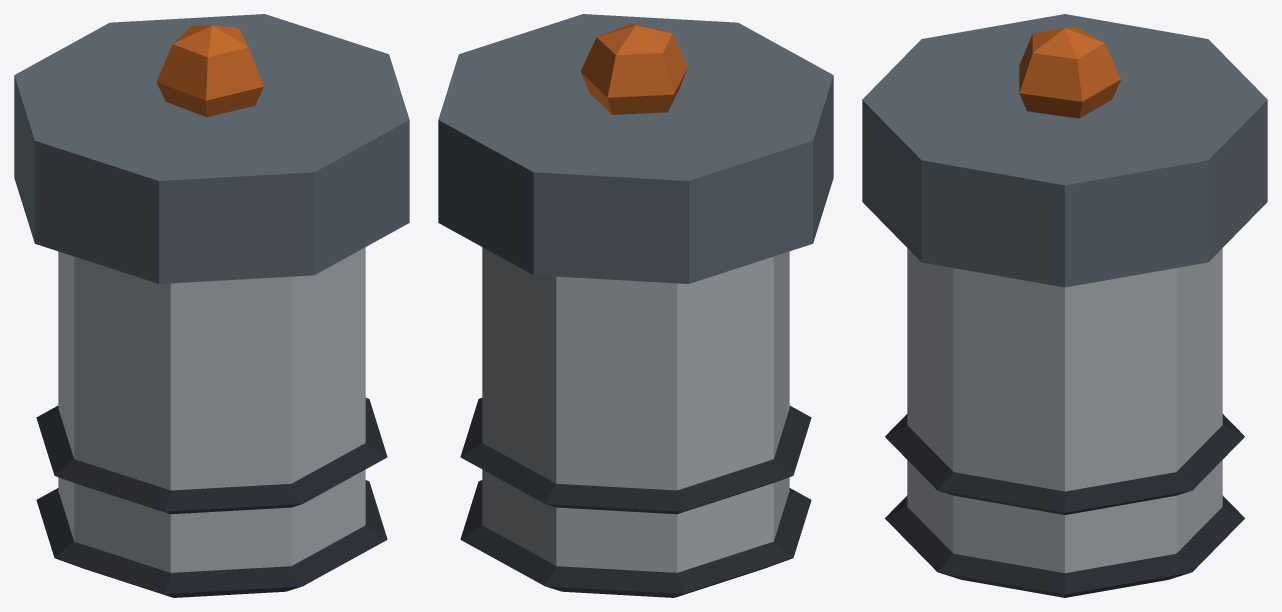
File: restraining-bolt.glb
3 views of the same model, side by side, from view 1: azimuth 30°, elevation 25°; view 2: azimuth 150°, elevation 25°; view 3: azimuth 270°, elevation 25° (orthographic).
Visible parts, largest first — view 1: m; view 2: m; view 3: m.
Part boxes in pixels (x1,y1,x2,y2): m: (14,14,409,597); m: (438,14,833,597); m: (862,14,1267,597).
Bounding box in the file's own units: 0.0362 × 0.05 × 0.0362.
